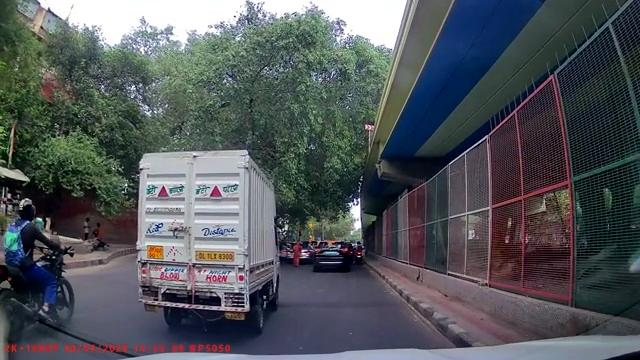motorcycle_with_helmet: (1, 196, 77, 335)
